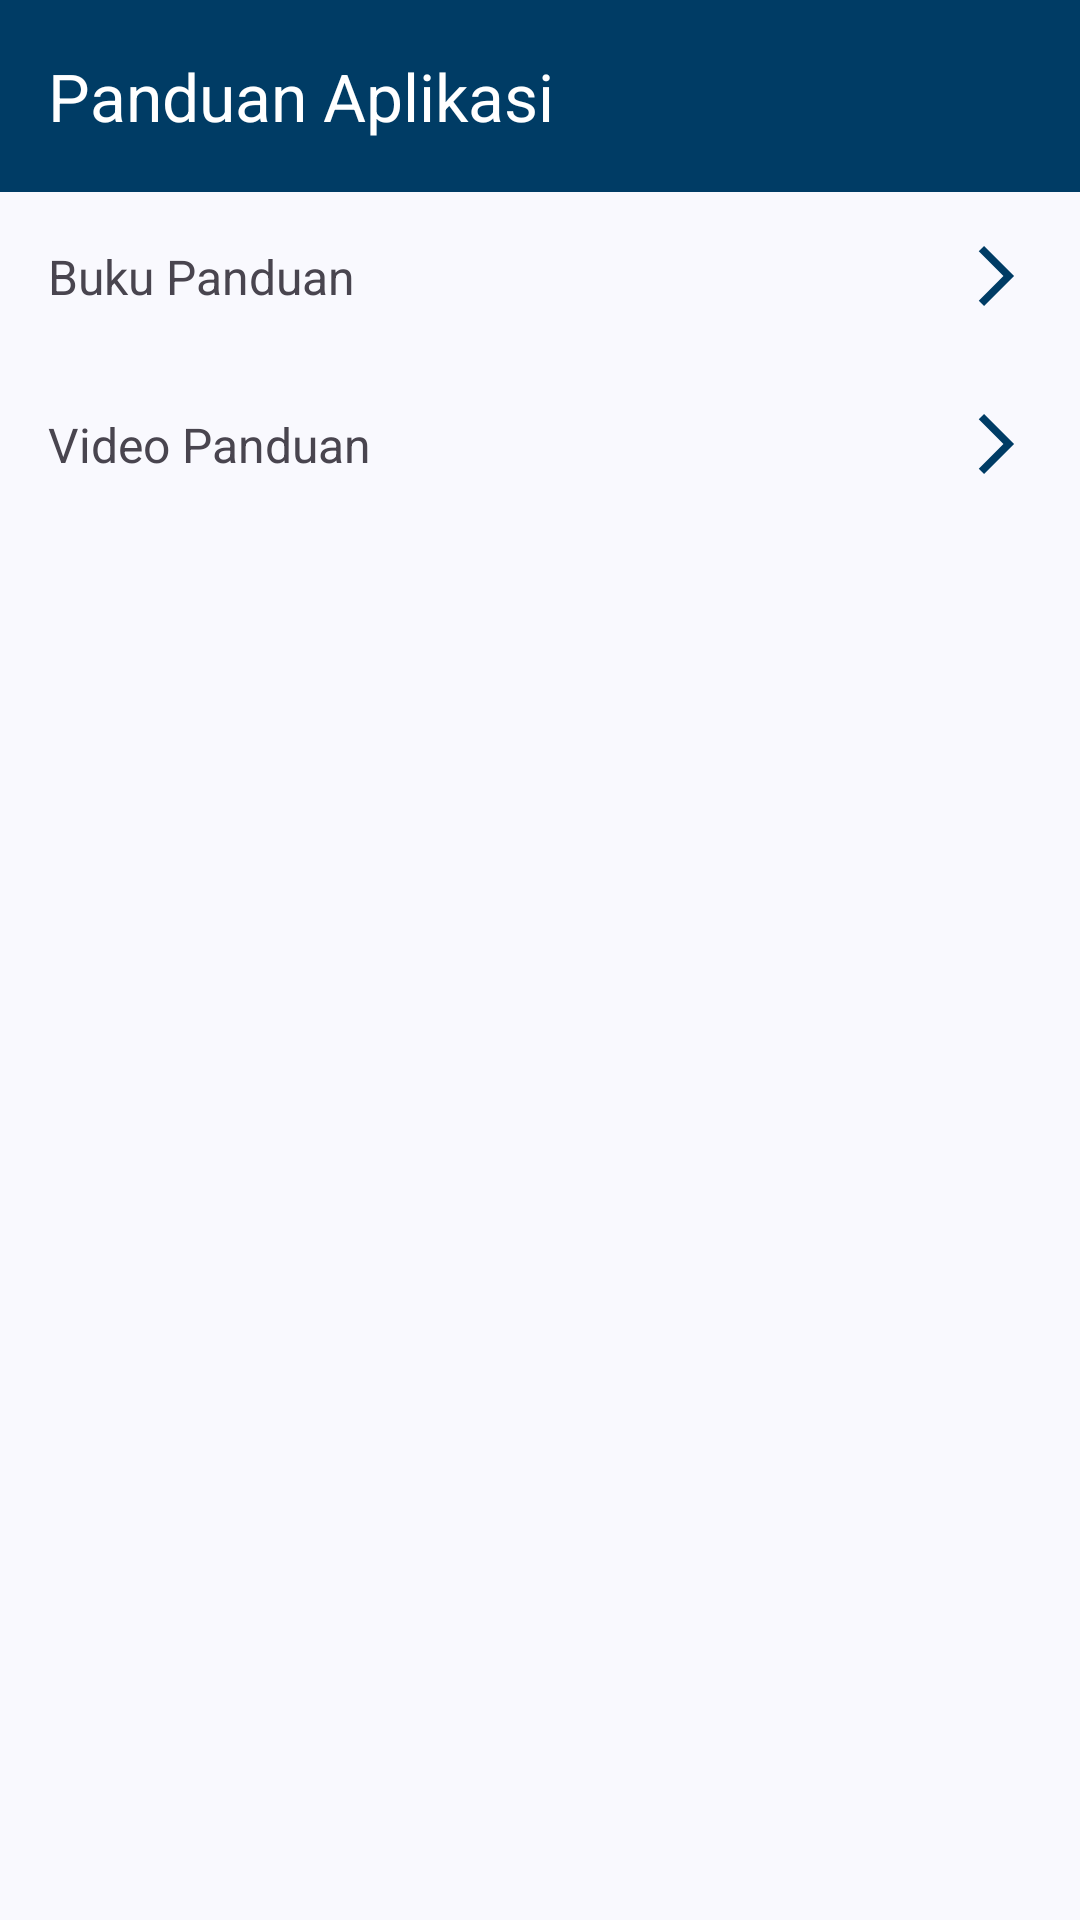

Where icons sit on this 1080w x 1920h app screen, as (x1, y1, x2, y2):
arrow forward: (979, 246, 1014, 306), (979, 414, 1014, 474)
